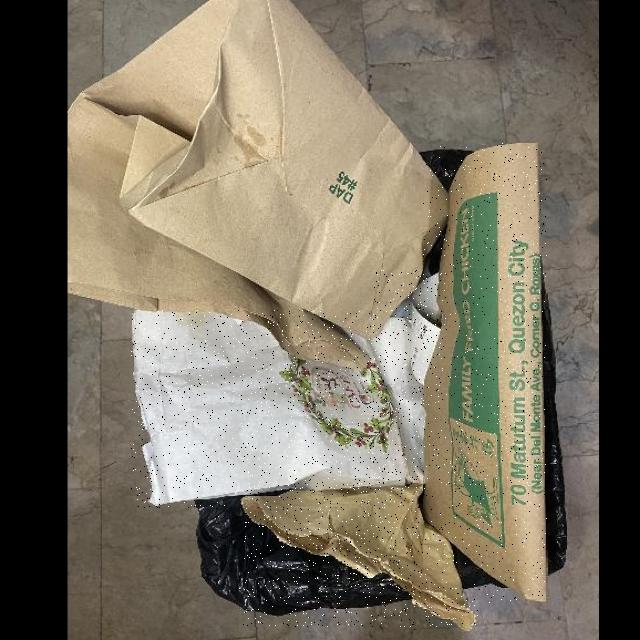paper: (422, 143, 547, 603), (131, 310, 413, 508), (244, 485, 478, 627), (374, 270, 443, 484)
